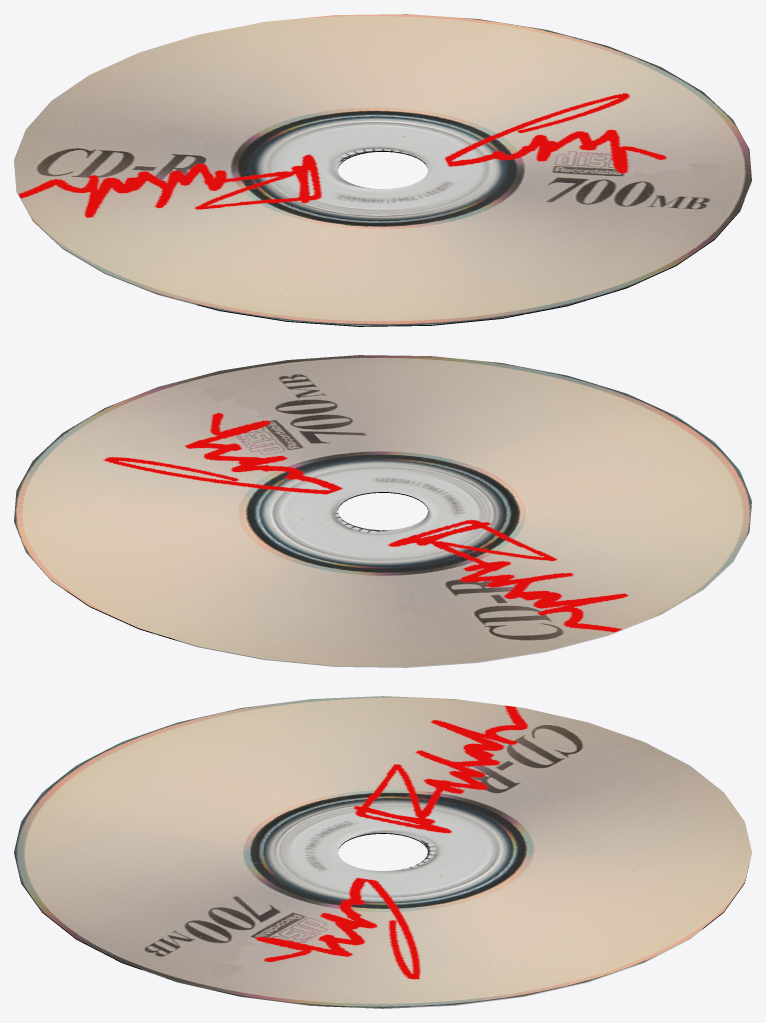
Rendered from CDred.glb.
The picture shows the model from 3 angles, top to bottom: view 1: azimuth 30°, elevation 25°; view 2: azimuth 150°, elevation 25°; view 3: azimuth 270°, elevation 25°; orthographic projection.
Visible parts, largest first — view 1: Object_2; view 2: Object_2; view 3: Object_2.
Part boxes in pixels (box(x1,y1,x2,y2)): Object_2: box(14, 14, 751, 326); Object_2: box(14, 355, 751, 667); Object_2: box(14, 696, 751, 1008).
Bounding box in the file's own units: 2 × 0.00271 × 2.
Materials: 1 (1 with a texture image).
